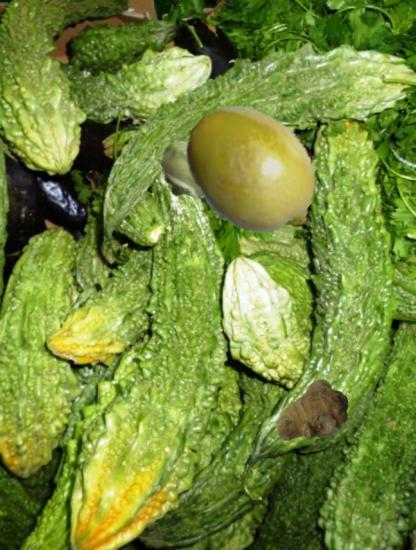Ginger: (272, 374, 351, 453)
Kohlrabi: (156, 134, 233, 211)
Maracuja: (181, 99, 320, 238)
